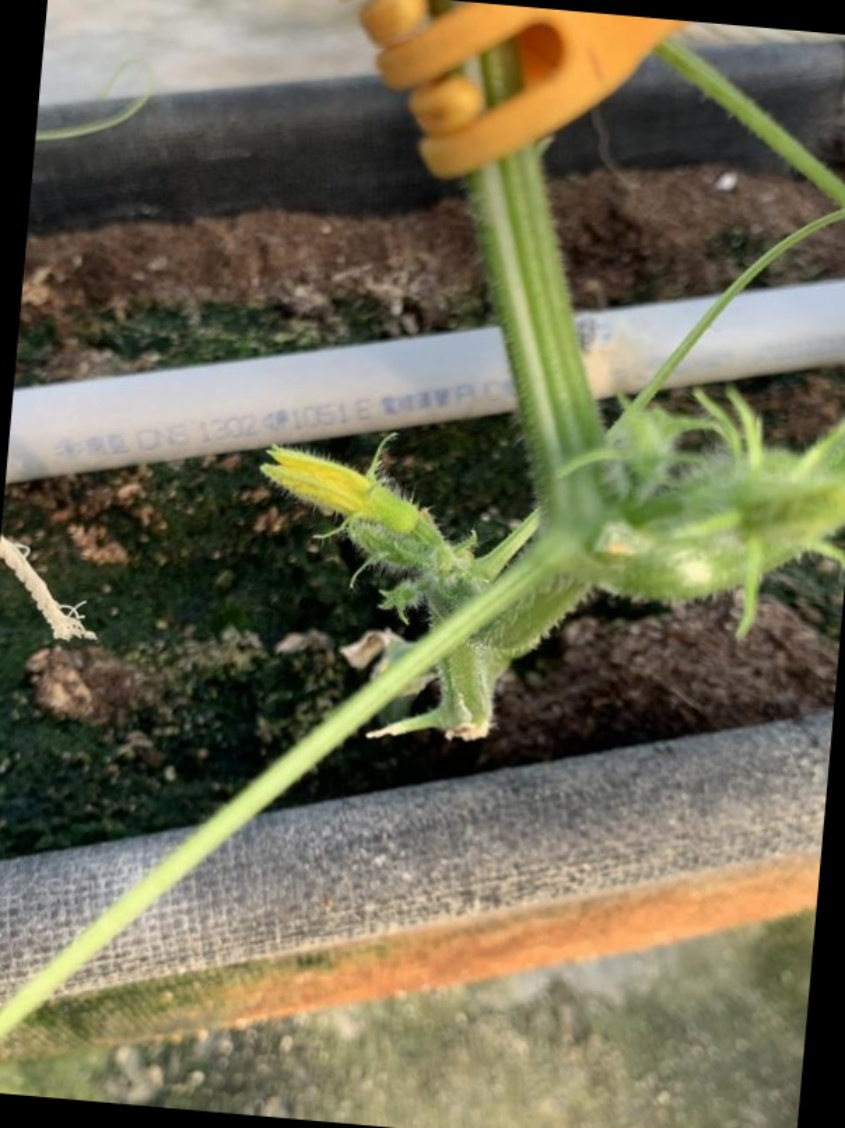bud: (259, 442, 414, 540)
